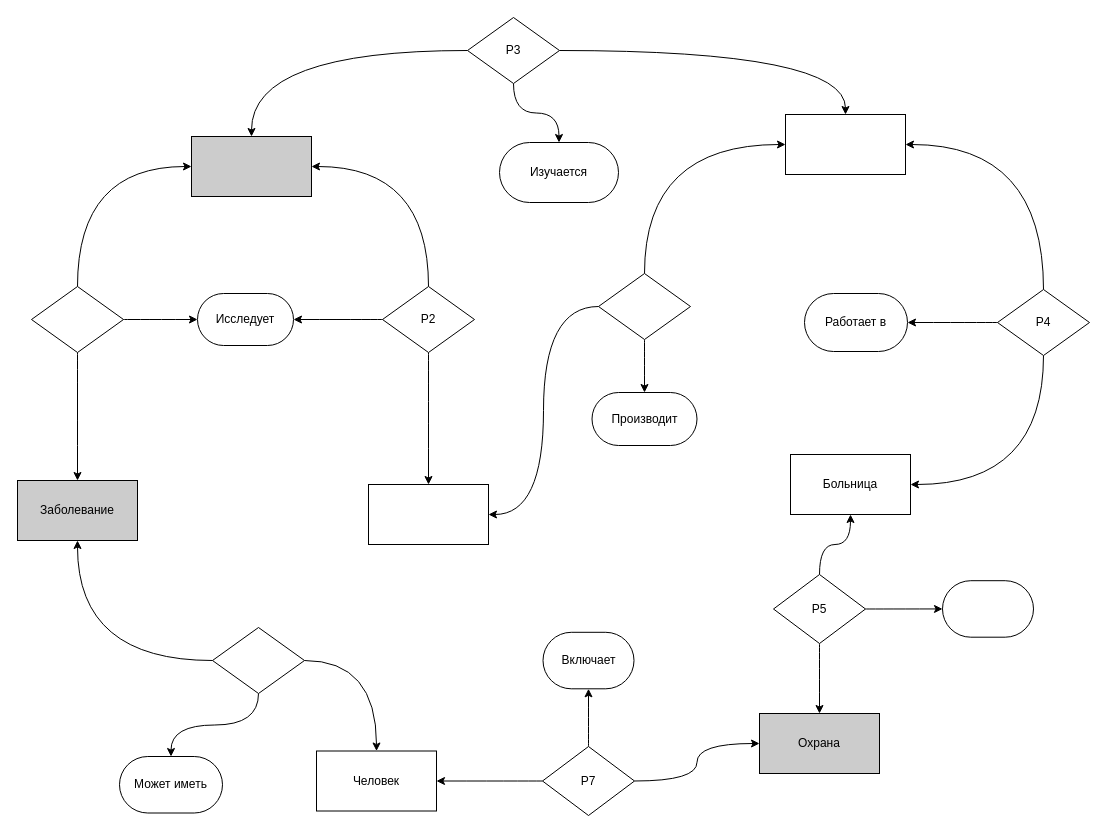
Some shapes in this 1107 by 833 pixel diagram are drawn without their labels. The shapes that lost their labels are listed below. From the top down, each one's centre as x and y in pixels, then its label:
point (845, 144): Доктор
point (251, 166): Медицина
point (77, 319): P1
point (644, 306): P6
point (428, 514): Лечение
point (988, 608): Требует
point (258, 660): P8
